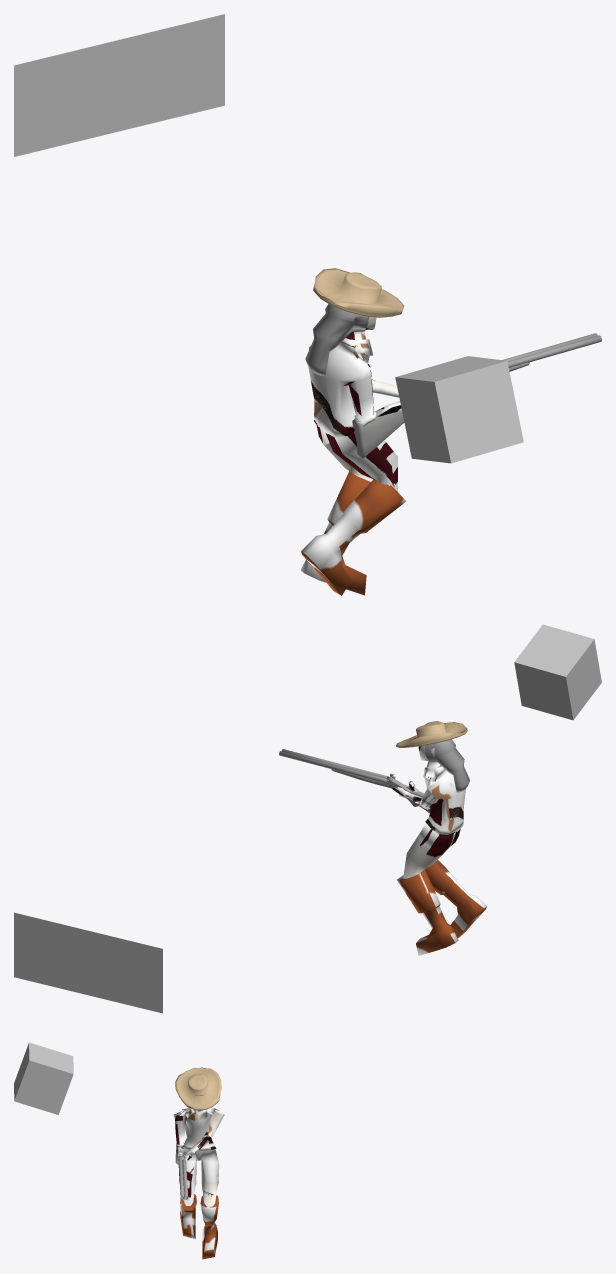
Rendered from Mariana_the_brigandBETA2.obj.
3 views of the same model, one above another, from view 1: azimuth 30°, elevation 25°; view 2: azimuth 150°, elevation 25°; view 3: azimuth 270°, elevation 25° (orthographic). The views are drawn at different scales.
Parts seen in each view (by area): view 1: Floor_Plane, Default_Body_Cube, Cube_Cube.001, Hat_Cylinder, SHOTGUN_Cube.007, Hair_Cube.004; view 2: Floor_Plane, Default_Body_Cube, Cube_Cube.001, SHOTGUN_Cube.007, Hair_Cube.004, Hat_Cylinder; view 3: Default_Body_Cube, Cube_Cube.001, Hat_Cylinder, SHOTGUN_Cube.007.
Boxes of the visible parts, x1=… form: Floor_Plane: x1=14, y1=14, x2=224, y2=156; Default_Body_Cube: x1=300, y1=317, x2=406, y2=595; Cube_Cube.001: x1=395, y1=356, x2=523, y2=463; Hat_Cylinder: x1=313, y1=268, x2=404, y2=317; SHOTGUN_Cube.007: x1=352, y1=333, x2=601, y2=458; Hair_Cube.004: x1=305, y1=303, x2=373, y2=375; Floor_Plane: x1=14, y1=912, x2=162, y2=1013; Default_Body_Cube: x1=392, y1=745, x2=486, y2=955; Cube_Cube.001: x1=514, y1=624, x2=601, y2=720; SHOTGUN_Cube.007: x1=279, y1=749, x2=430, y2=813; Hair_Cube.004: x1=425, y1=739, x2=469, y2=792; Hat_Cylinder: x1=396, y1=721, x2=467, y2=747; Default_Body_Cube: x1=173, y1=1107, x2=224, y2=1259; Cube_Cube.001: x1=14, y1=1042, x2=73, y2=1114; Hat_Cylinder: x1=175, y1=1067, x2=221, y2=1110; SHOTGUN_Cube.007: x1=175, y1=1145, x2=188, y2=1199.
Size of what is drawn, in the model's own units: 8.39 by 9.21 by 25.11.
